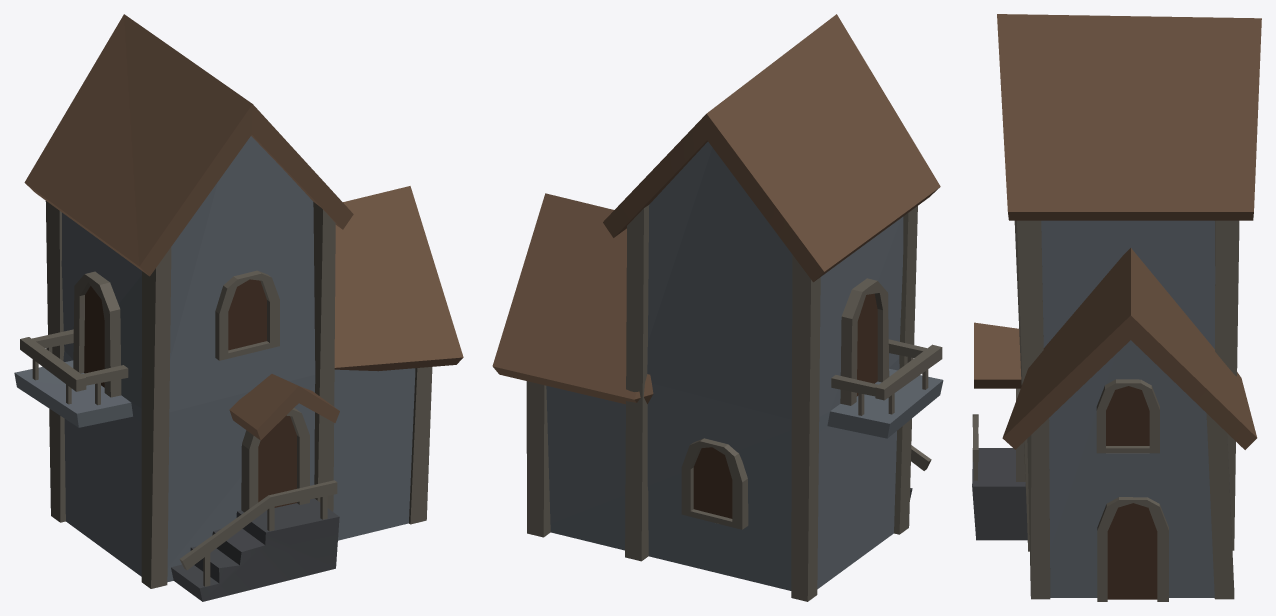
Rendered from Domiki1.fbx.
The picture shows the model from 3 angles, left to right: view 1: azimuth 30°, elevation 25°; view 2: azimuth 150°, elevation 25°; view 3: azimuth 270°, elevation 25°; orthographic projection. The views are drawn at different scales.
Visible parts, largest first — view 1: Fantasy_House_6; view 2: Fantasy_House_6; view 3: Fantasy_House_6.
Boxes of the visible parts, left/top/right/bottom form: Fantasy_House_6: left=14, top=14, right=463, bottom=601; Fantasy_House_6: left=492, top=14, right=943, bottom=601; Fantasy_House_6: left=972, top=14, right=1261, bottom=601.
Bounding box in the file's own units: 7.41 × 9.14 × 4.9.
